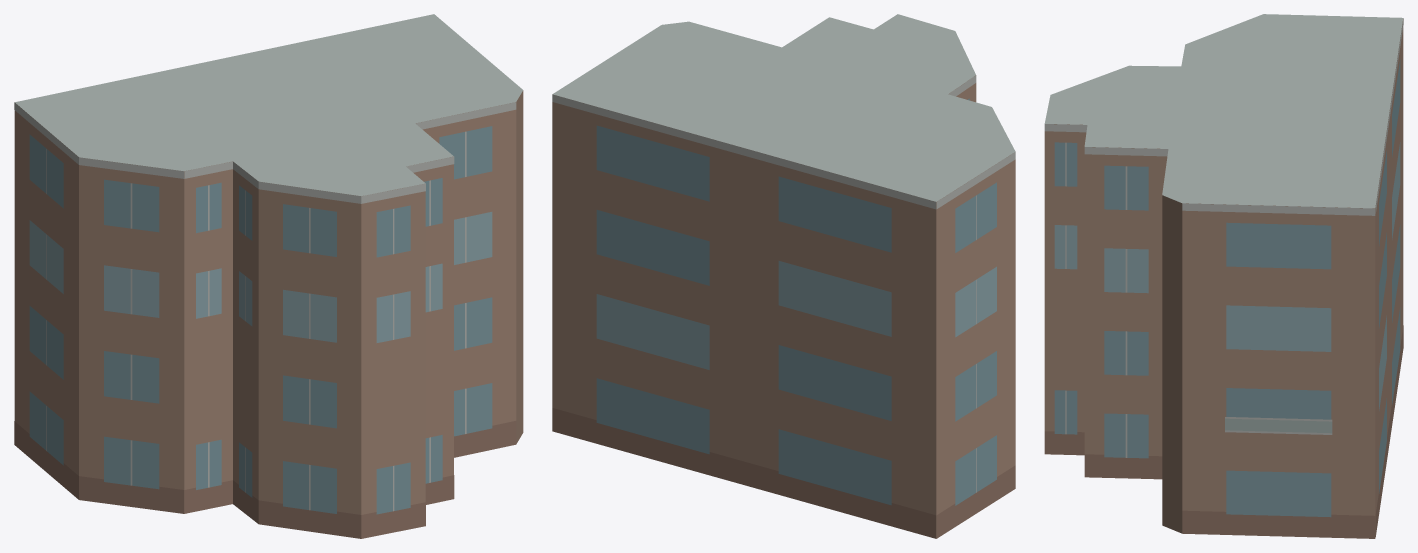
The model's file is survey-upis-33036780.glb.
The picture shows the model from 3 angles, left to right: view 1: azimuth 30°, elevation 25°; view 2: azimuth 150°, elevation 25°; view 3: azimuth 270°, elevation 25°; orthographic projection. The views are drawn at different scales.
Parts seen in each view (by area): view 1: survey-upis-33036780.tmp; view 2: survey-upis-33036780.tmp; view 3: survey-upis-33036780.tmp.
Part boxes in pixels (bbox=[...]): survey-upis-33036780.tmp: bbox=[14, 14, 523, 538]; survey-upis-33036780.tmp: bbox=[552, 14, 1015, 538]; survey-upis-33036780.tmp: bbox=[1044, 14, 1403, 538].
Size of the model in its own units: 13.64 by 10.8 by 10.64.
